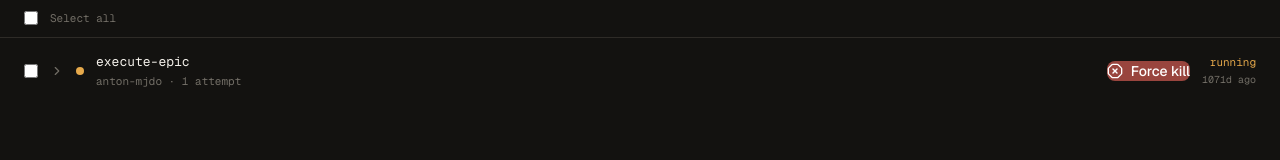
Test: Bulk kill bar › says one job, not 1 jobs, on a single-row selection
Click the checkbox named "Select execute-epic job j-a for bulk kill" at (31, 70), box [24,64,38,78]
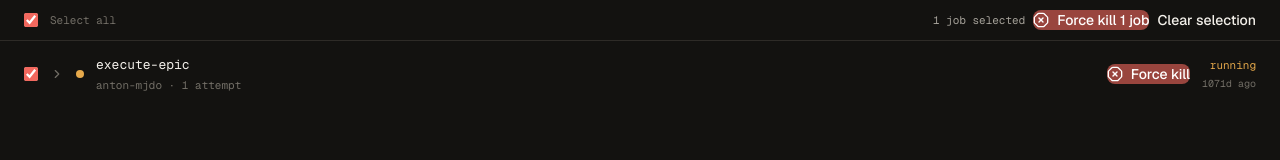
Expected: the button "Force kill 1 job" is shown
Click the button "Force kill 1 job" at (1091, 20), box [1033,10,1150,30]
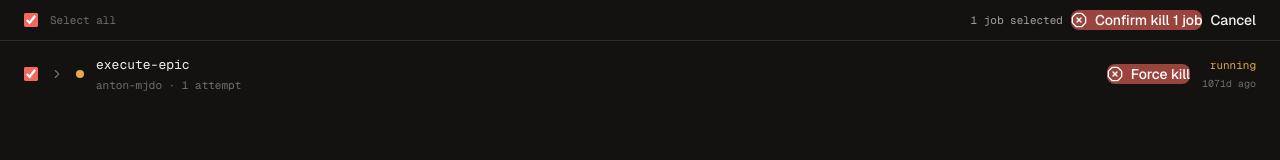
Expected: the button "Confirm kill 1 job" is shown, [1071,10,1202,30]
